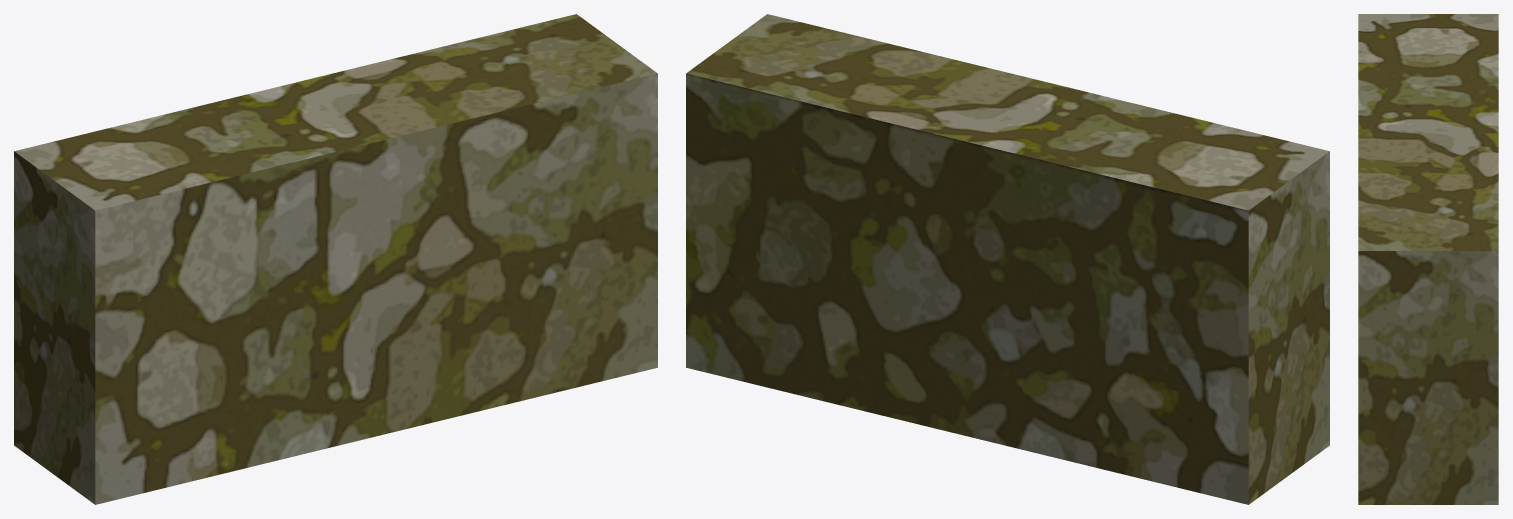
The model's file is Half Wall.fbx.
The picture shows the model from 3 angles, left to right: view 1: azimuth 30°, elevation 25°; view 2: azimuth 150°, elevation 25°; view 3: azimuth 270°, elevation 25°; orthographic projection. The views are drawn at different scales.
Parts seen in each view (by area): view 1: Wall_Half; view 2: Wall_Half; view 3: Wall_Half.
Part boxes in pixels (left/top/right/bottom): Wall_Half: left=14, top=14, right=657, bottom=504; Wall_Half: left=686, top=14, right=1329, bottom=504; Wall_Half: left=1358, top=14, right=1498, bottom=504.
Size of the model in its own units: 2 by 1 by 0.5002.
